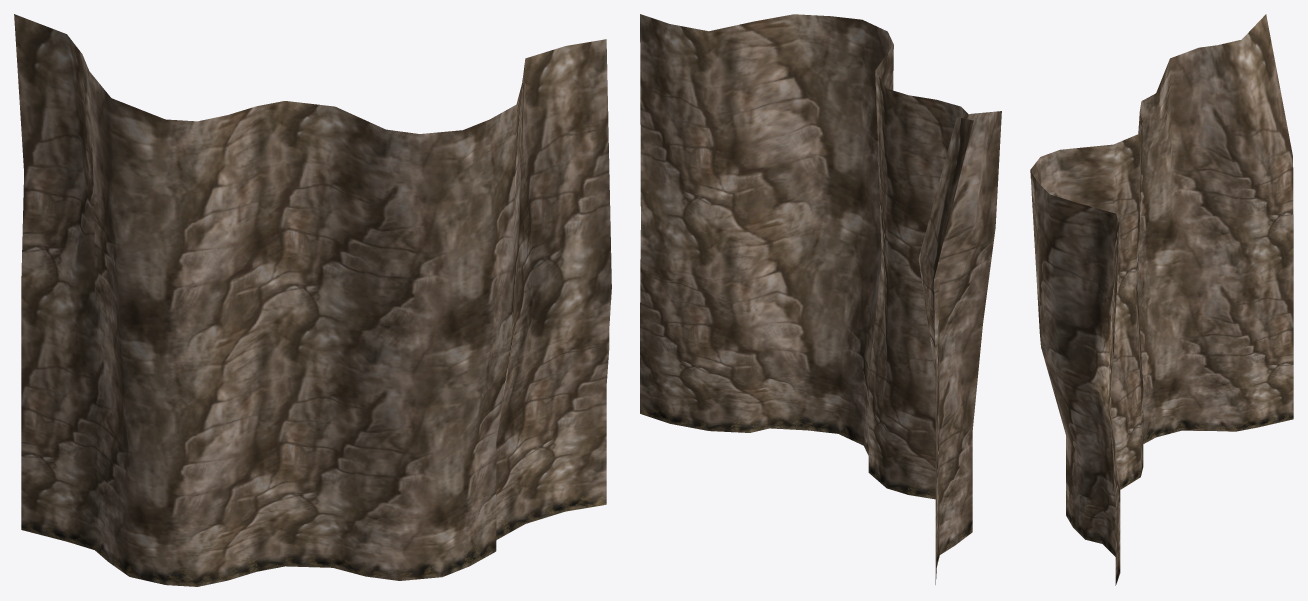
The model's file is OVERHILL_A_01_OBJECT01.fbx.
The picture shows the model from 3 angles, left to right: view 1: azimuth 30°, elevation 25°; view 2: azimuth 150°, elevation 25°; view 3: azimuth 270°, elevation 25°; orthographic projection. The views are drawn at different scales.
Visible parts, largest first — view 1: OVERHILL_A_01_OBJECT01; view 2: OVERHILL_A_01_OBJECT01; view 3: OVERHILL_A_01_OBJECT01.
Part boxes in pixels (x1,y1,x2,y2): OVERHILL_A_01_OBJECT01: (14, 14, 611, 586); OVERHILL_A_01_OBJECT01: (640, 14, 1001, 584); OVERHILL_A_01_OBJECT01: (1030, 14, 1293, 585).
Bounding box in the file's own units: 136582 × 141924 × 85530.
2 materials, 2 textured.
